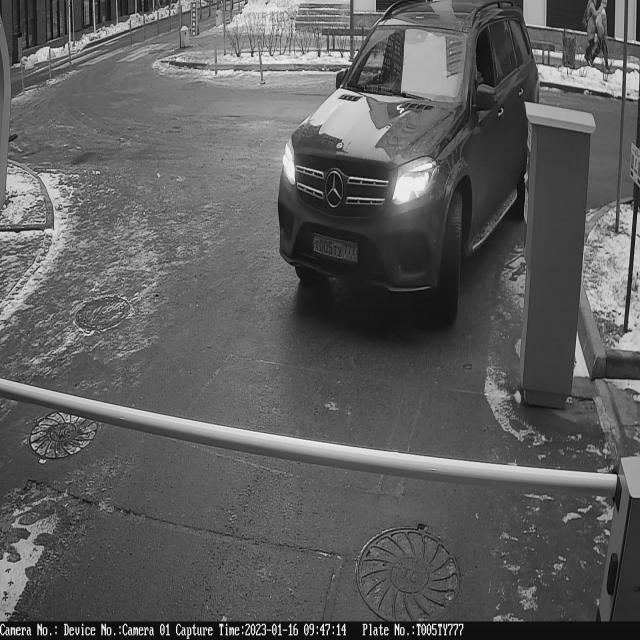car-plate-numbers: (312, 228, 361, 266)
